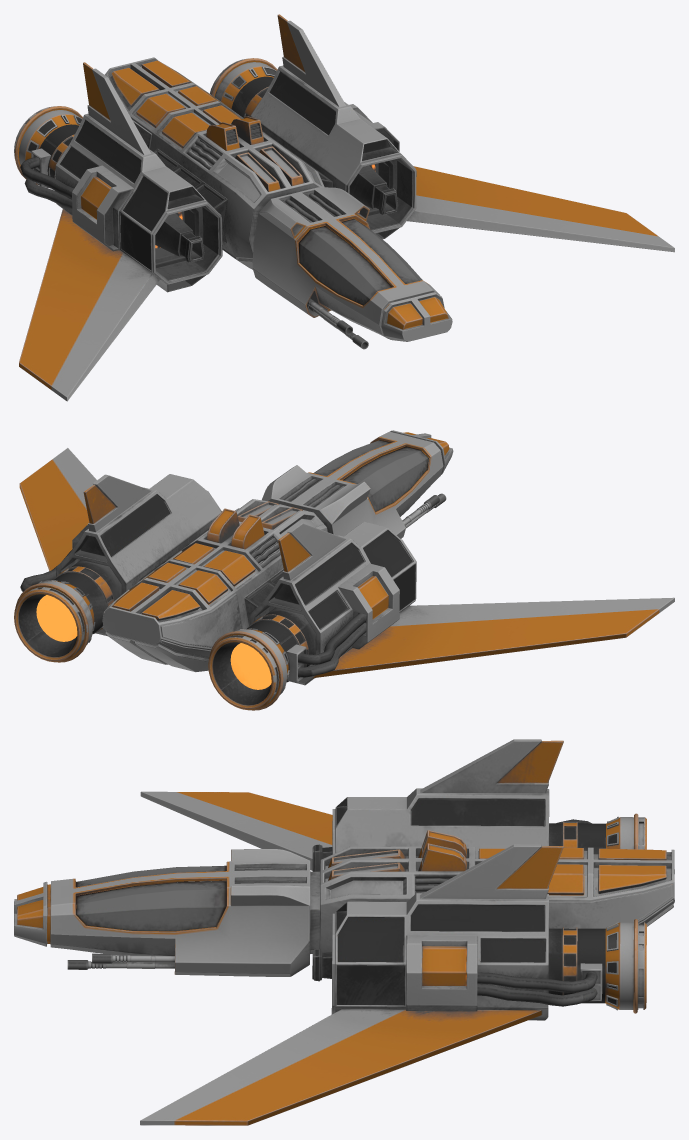
File: spaceship.glb
3 renders of one model, top to bottom at view 1: azimuth 30°, elevation 25°; view 2: azimuth 150°, elevation 25°; view 3: azimuth 270°, elevation 25°, orthographic. The views are drawn at different scales.
Parts seen in each view (by area): view 1: Starship; view 2: Starship; view 3: Starship.
Part boxes in pixels (box(x1,y1,x2,y2)): Starship: box(14, 14, 674, 401); Starship: box(14, 430, 674, 710); Starship: box(14, 739, 674, 1125).
Size of the model in its own units: 25.92 by 6.51 by 21.89.
1 material, 1 textured.
